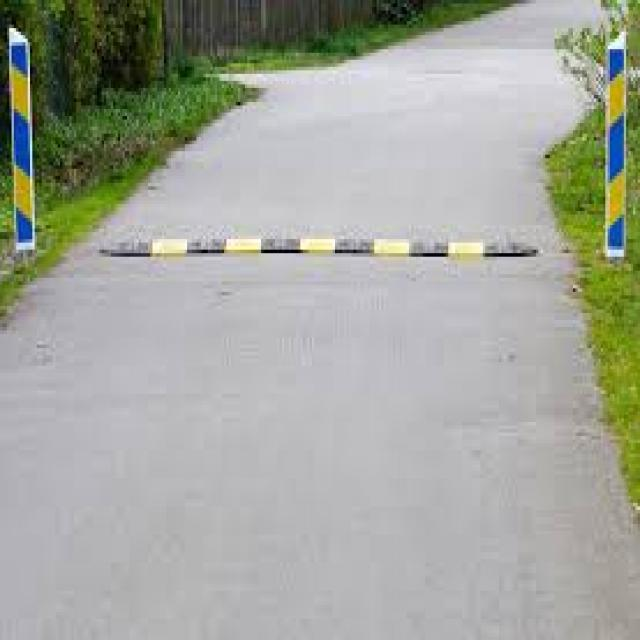Marked Bump: (98, 223, 532, 270)
